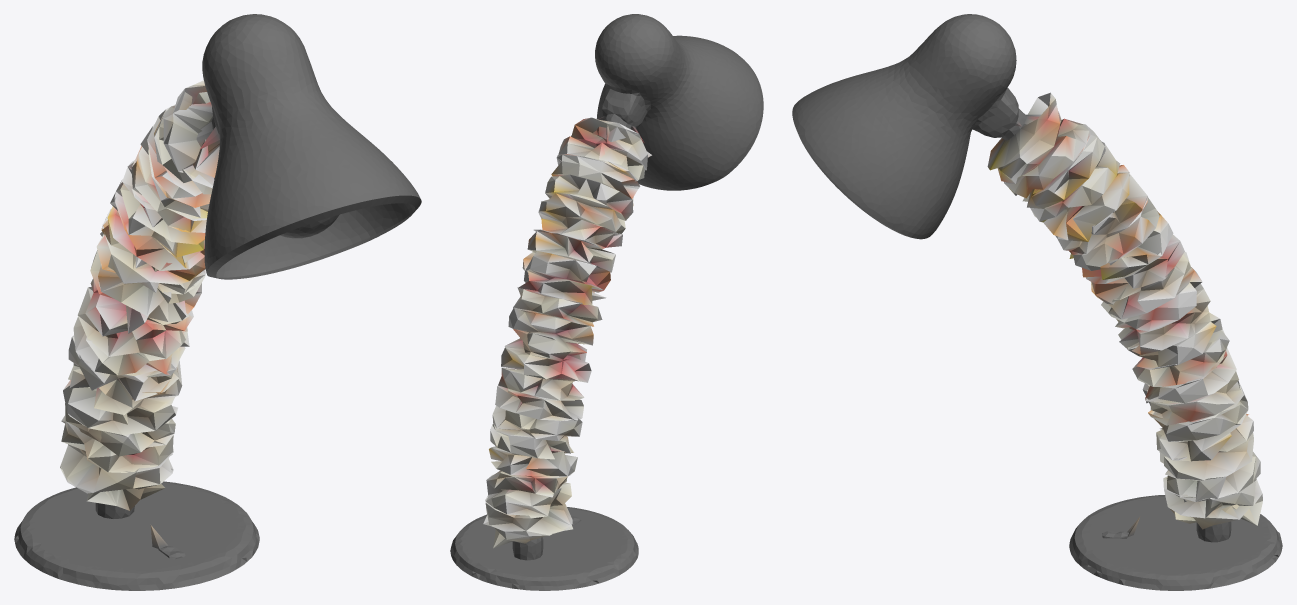
File: lamp3_final400.obj
3 renders of one model, left to right at view 1: azimuth 30°, elevation 25°; view 2: azimuth 150°, elevation 25°; view 3: azimuth 270°, elevation 25°, orthographic. The views are drawn at different scales.
Bounding box in the file's own units: 0.568 × 1.55 × 1.31.
